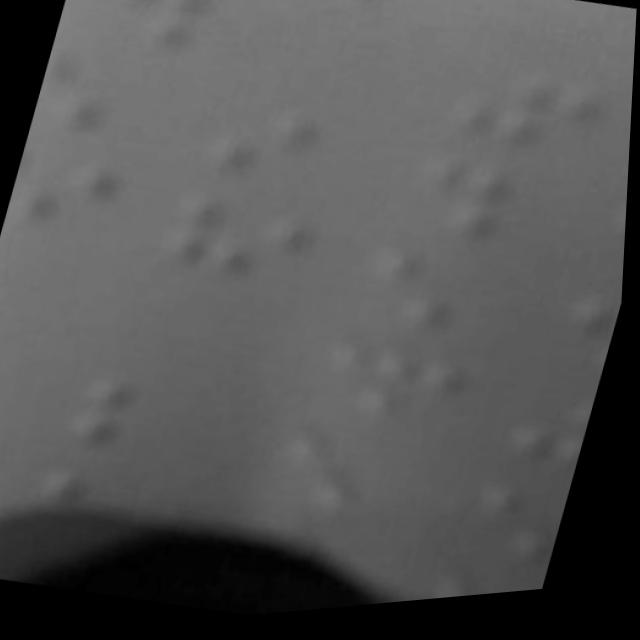braiile: (57, 358, 258, 495), (146, 185, 349, 320), (257, 420, 450, 558), (391, 152, 581, 291), (194, 95, 385, 229), (306, 336, 492, 469), (346, 243, 532, 375), (441, 63, 623, 192), (29, 44, 191, 162), (2, 141, 139, 256), (457, 486, 574, 595), (62, 0, 219, 74), (506, 402, 597, 503)
